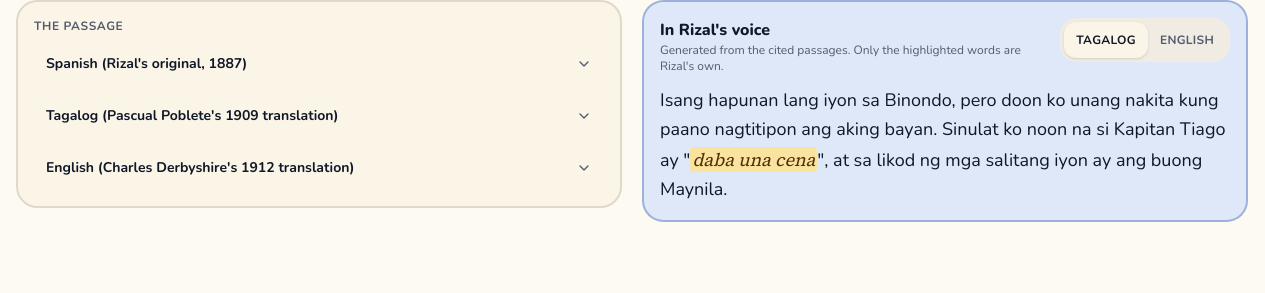
it: ReflectionCard › renders three labeled layers that expand to show the passage
This screenshot has width=1265, height=293.
Click the button "Spanish (Rizal's original, 1887)". click: (147, 64)
box: [34,42,604,86]
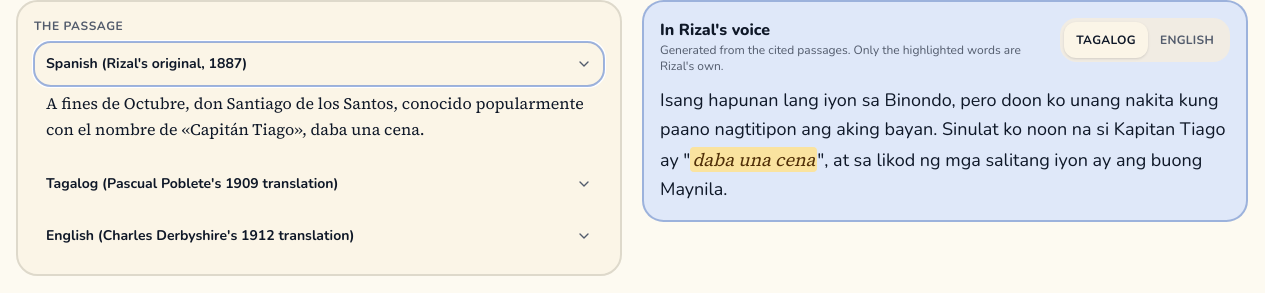
Expected: the text "daba una cena." is shown, [46,92,584,140]
